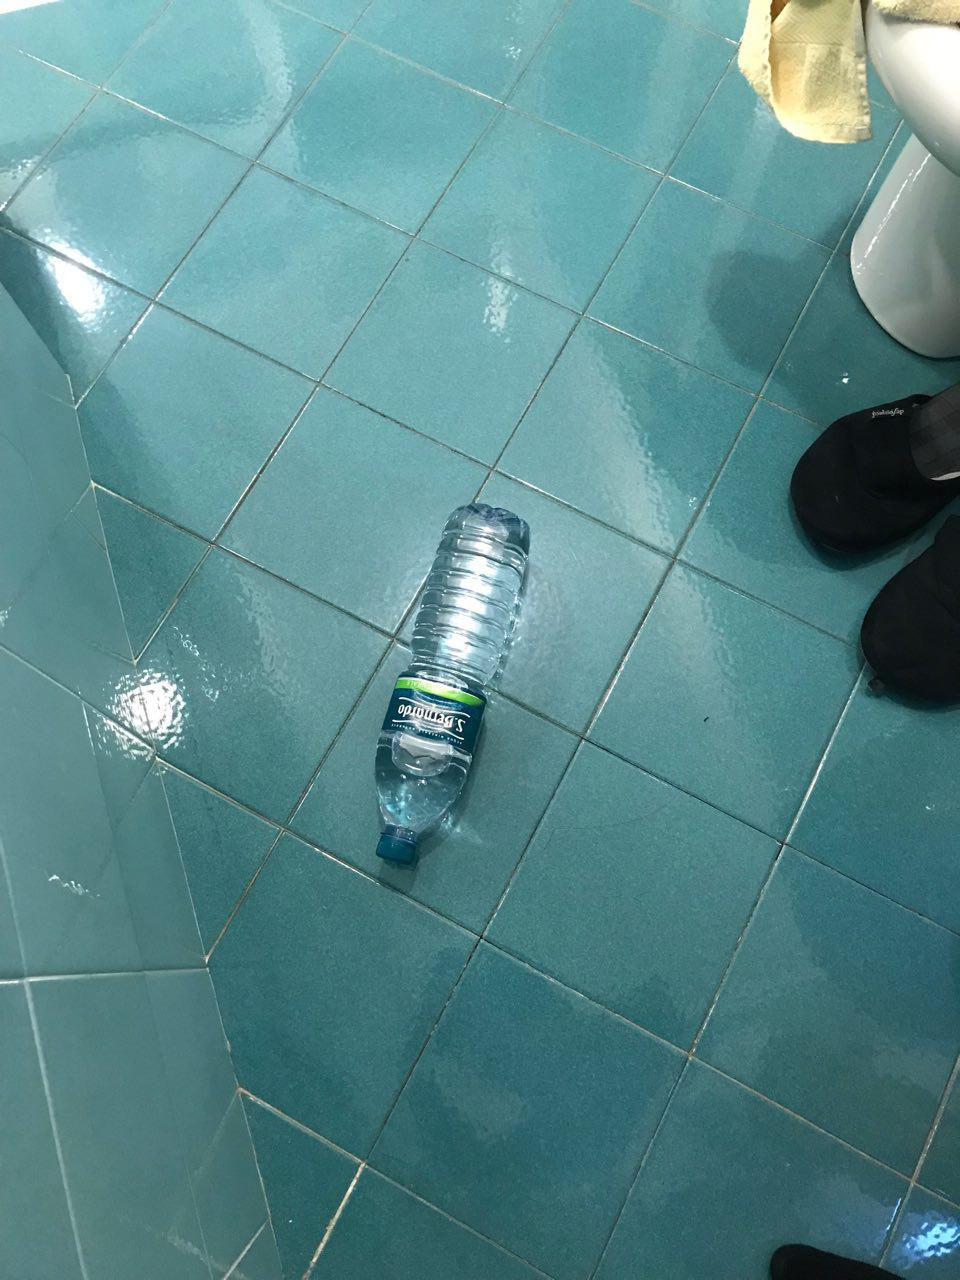san_bernardo: (373, 503, 531, 864)
